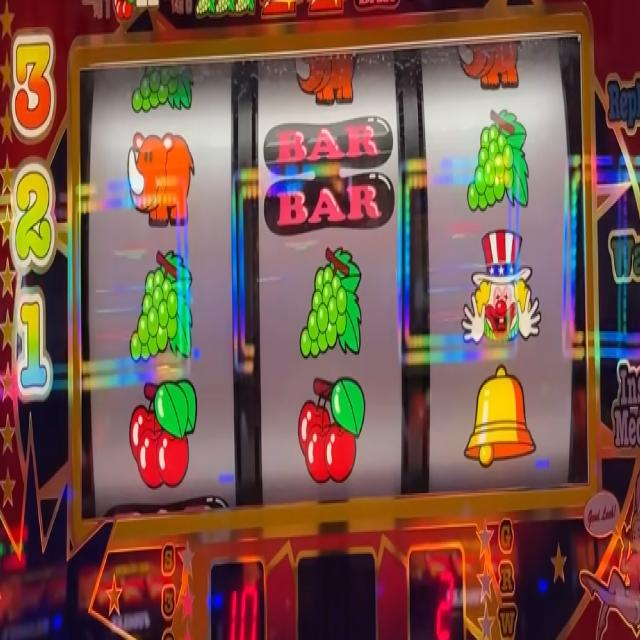bar: (265, 115, 395, 232)
bell: (463, 366, 538, 470)
cherry: (130, 377, 199, 491), (298, 377, 366, 485), (112, 0, 136, 21)
clown: (460, 224, 541, 345)
display: (77, 32, 594, 524)
elephant: (126, 130, 196, 228), (292, 51, 358, 102), (456, 41, 520, 90)
grape: (297, 244, 365, 357), (127, 251, 193, 367), (465, 105, 530, 218), (131, 62, 196, 117), (195, 0, 215, 18), (235, 0, 254, 14), (217, 0, 235, 13)
